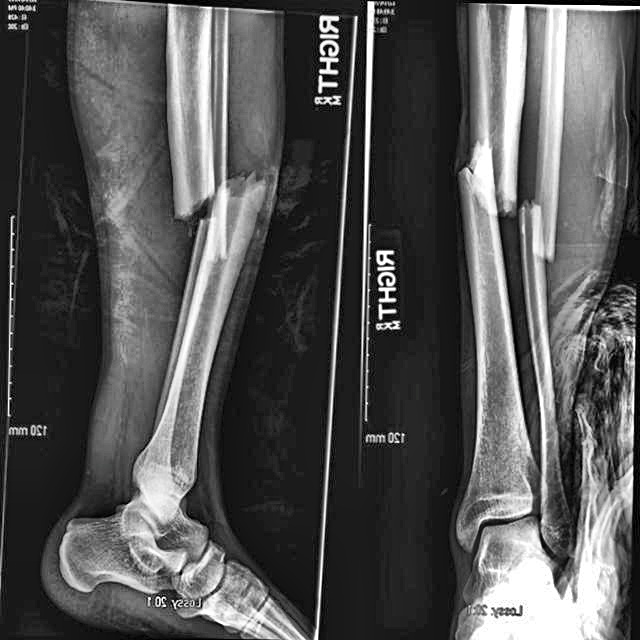Transverse: (154, 140, 277, 280), (447, 141, 520, 228), (511, 184, 573, 270)
